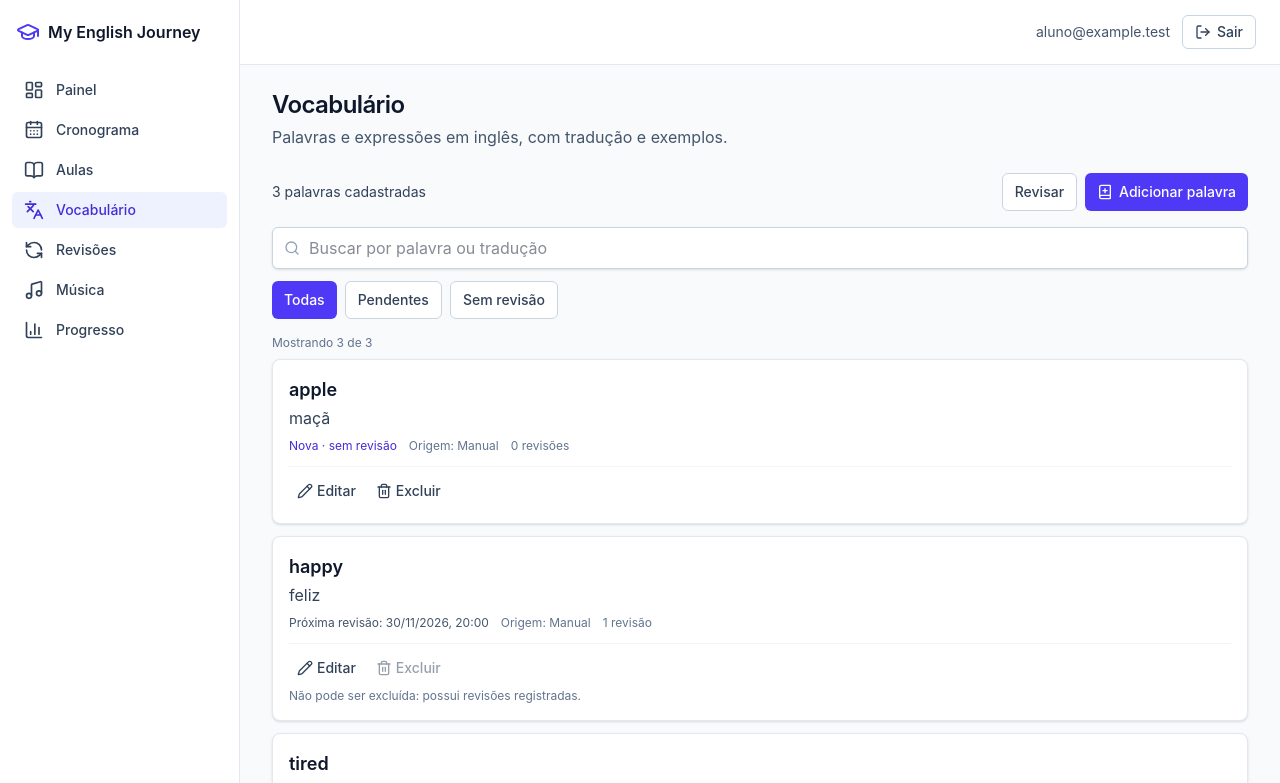
Test: /vocabulary › 2. busca e filtros consultam o serviço com os parâmetros corretos
Check: the heading "apple" is shown, box [289, 376, 337, 404]
Check: the headings read "apple", "happy", "tired", in this order, box [289, 376, 337, 404]; [289, 553, 343, 581]; [289, 750, 329, 778]
Type "cans" into the search field labelled "Buscar por palavra ou tradução" at [760, 248], box [272, 227, 1248, 269]
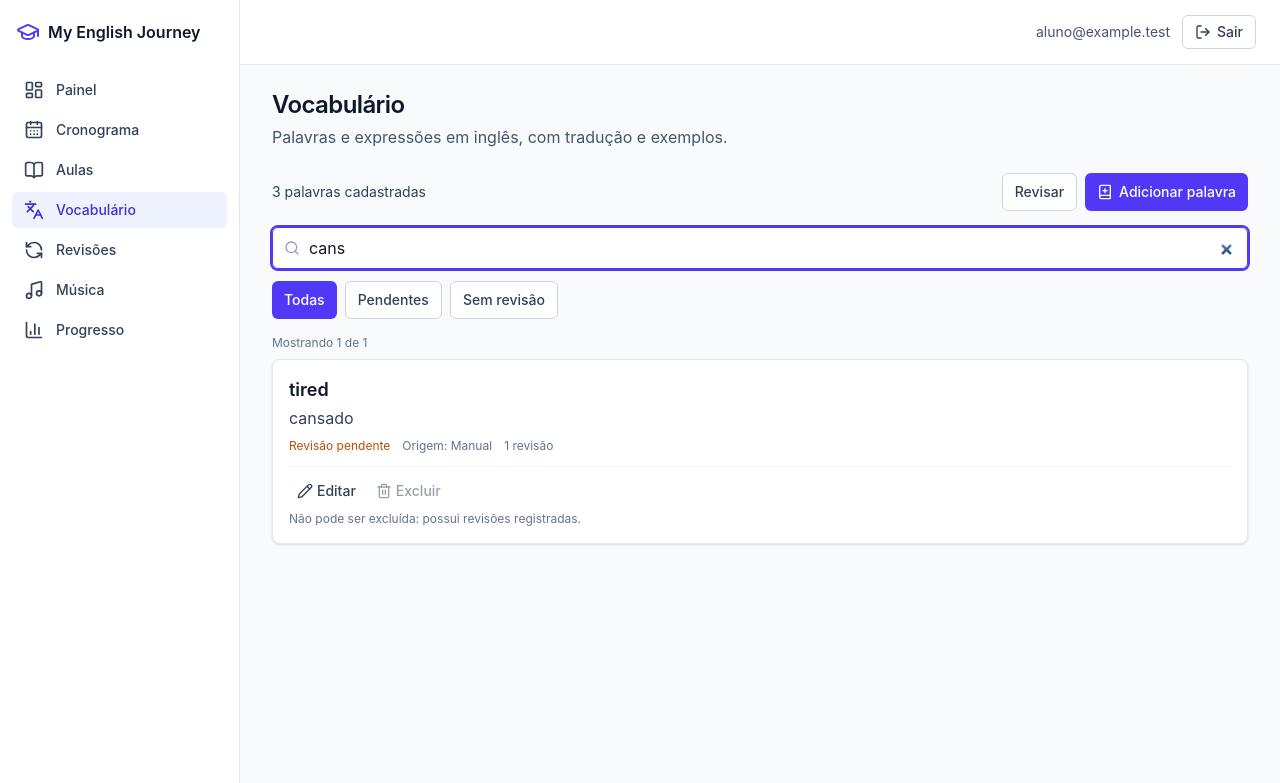
Check: the headings read "tired", in this order, box [289, 376, 329, 404]
Clear the search field named "Buscar por palavra ou tradução" at [760, 248], box [272, 227, 1248, 269]
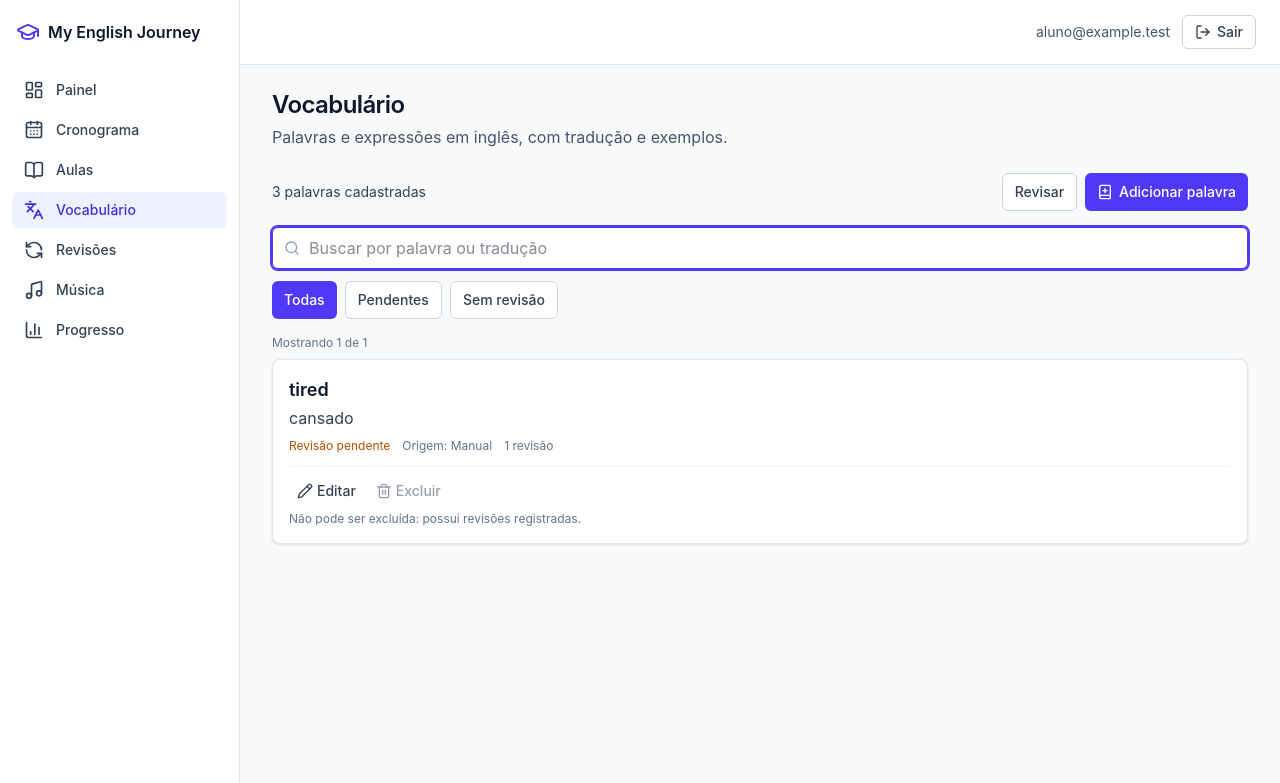
Click the button "Sem revisão" at [504, 300], box [450, 281, 558, 319]
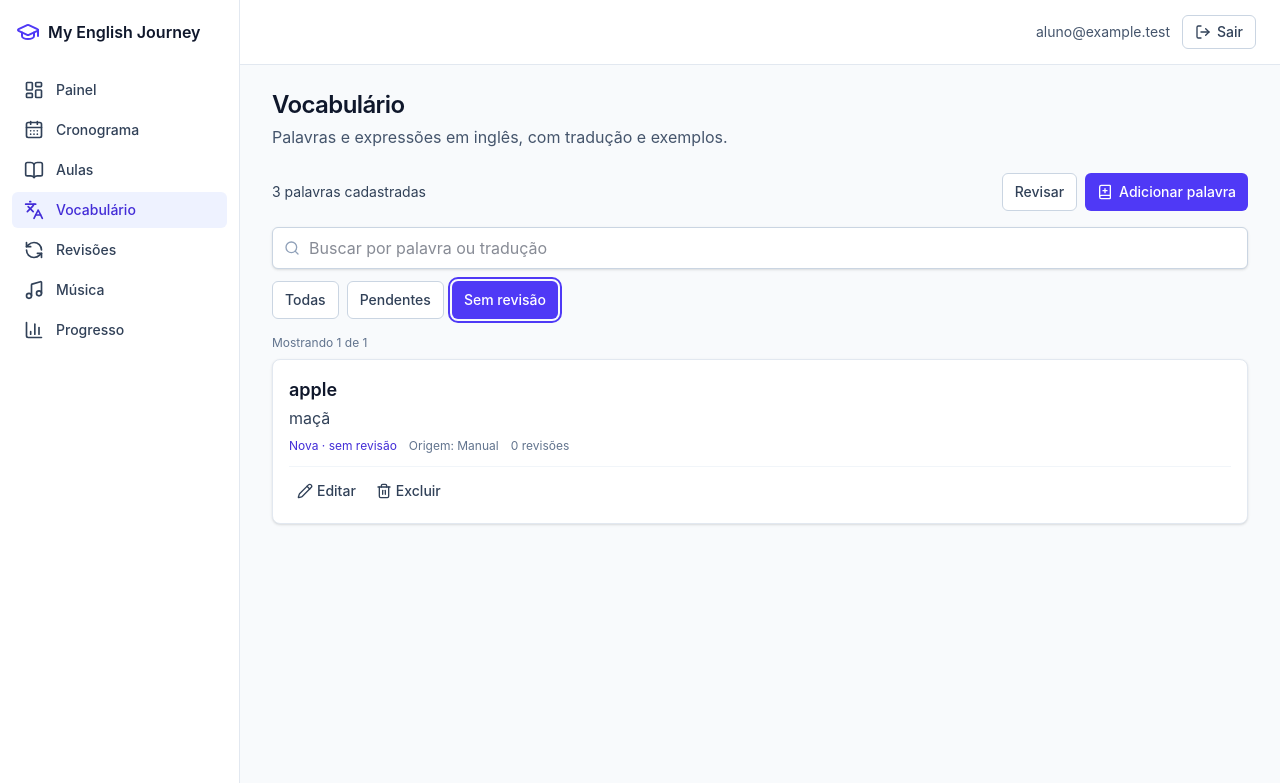
Check: the headings read "apple", in this order, box [289, 376, 337, 404]
Click the button "Pendentes" at [395, 300], box [347, 281, 444, 319]
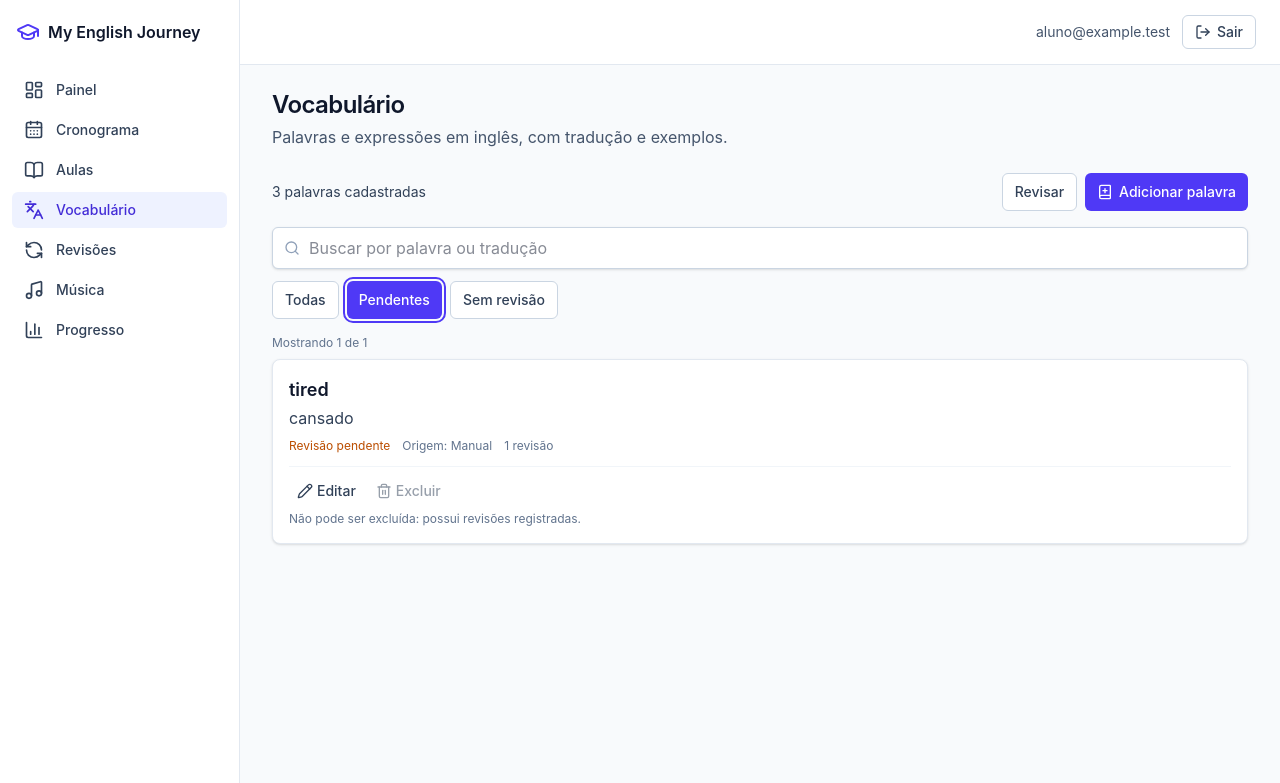
Check: the headings read "tired", in this order, box [289, 376, 329, 404]
